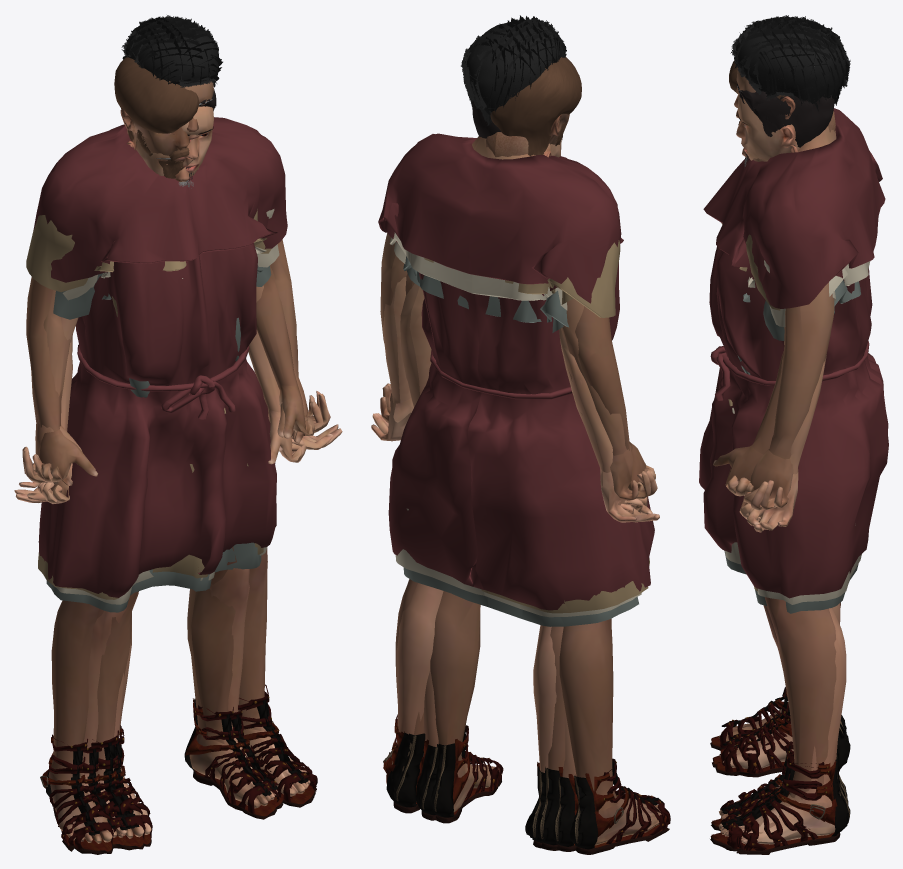
Rendered from spectators.glb.
The picture shows the model from 3 angles, left to right: view 1: azimuth 30°, elevation 25°; view 2: azimuth 150°, elevation 25°; view 3: azimuth 270°, elevation 25°; orthographic projection. The views are drawn at different scales.
Visible parts, largest first — view 1: OwnerWhiteTunic (×4), OwnerSkin (×4), OwnerSandals (×4), Hair_curls, Hair_swept, Beard_scruffy; view 2: OwnerWhiteTunic (×4), OwnerSkin (×4), OwnerSandals (×4), Hair_curls, Hair_swept; view 3: OwnerWhiteTunic (×4), OwnerSkin (×4), OwnerSandals (×4), Hair_curls, Hair_short.
Boxes of the visible parts, x1,y1,x2,y2 form: OwnerWhiteTunic (×4): (26,117,287,612); OwnerSkin (×4): (14,81,342,843); OwnerSandals (×4): (40,684,317,854); Hair_curls: (121,15,222,87); Hair_swept: (114,57,199,140); Beard_scruffy: (137,129,189,178); OwnerWhiteTunic (×4): (378,133,654,626); OwnerSkin (×4): (371,114,661,845); OwnerSandals (×4): (383,714,670,854); Hair_curls: (461,15,566,126); Hair_swept: (490,57,581,156); OwnerWhiteTunic (×4): (699,108,888,613); OwnerSkin (×4): (713,68,846,844); OwnerSandals (×4): (710,687,850,854); Hair_curls: (730,15,850,111); Hair_short: (737,84,834,147).
Size of the model in its own units: 0.7376 by 1.83 by 0.403.
20 materials, 20 textured.
